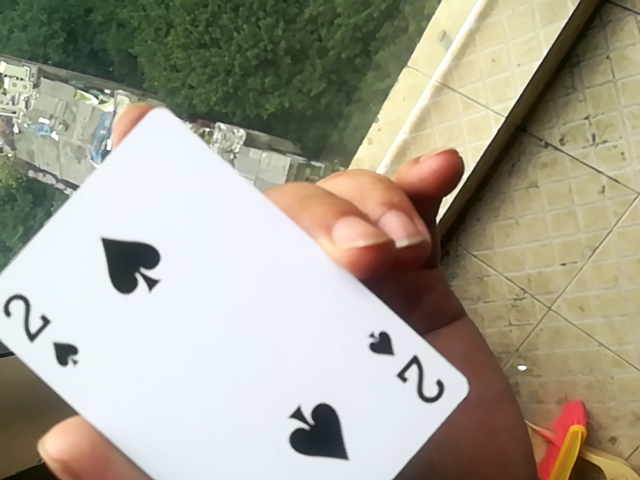ht 2: (2, 95, 467, 480)
